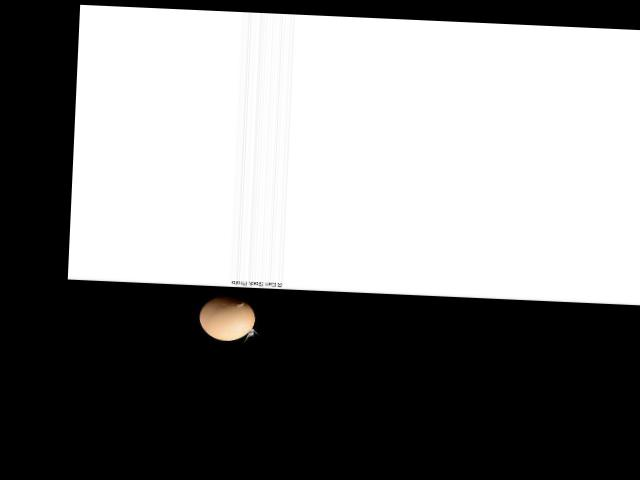egg: (198, 294, 255, 341)
